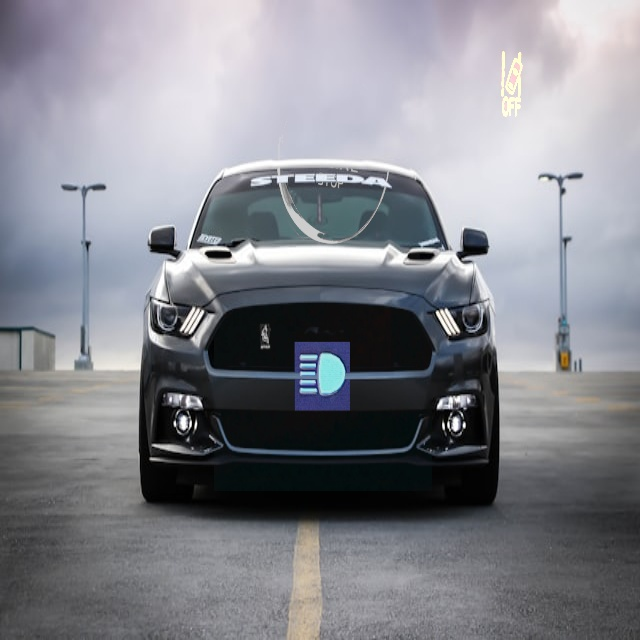symbol: (200, 51, 420, 271), (214, 273, 432, 491), (444, 22, 573, 151)
